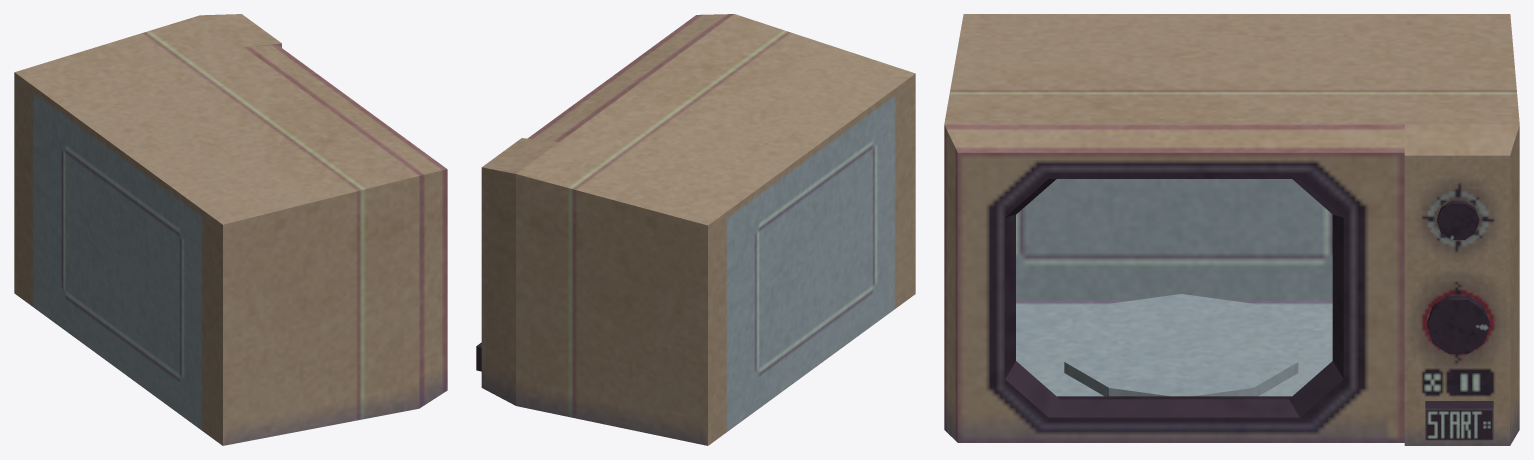
The model's file is Microwave.fbx.
3 renders of one model, left to right at view 1: azimuth 30°, elevation 25°; view 2: azimuth 150°, elevation 25°; view 3: azimuth 270°, elevation 25°, orthographic. The views are drawn at different scales.
Parts seen in each view (by area): view 1: Microwave_Base, Microwave_Door; view 2: Microwave_Base, Microwave_Door; view 3: Microwave_Base, Microwave_Door, Microwave_Plate.
Part boxes in pixels (x1,y1,x2,y2): Microwave_Base: [14, 14, 419, 445]; Microwave_Door: [244, 44, 447, 408]; Microwave_Base: [476, 14, 915, 445]; Microwave_Door: [527, 14, 733, 141]; Microwave_Base: [944, 14, 1519, 445]; Microwave_Door: [944, 124, 1404, 442]; Microwave_Plate: [1064, 294, 1298, 396].
Size of the model in its own units: 215 by 200 by 342.
